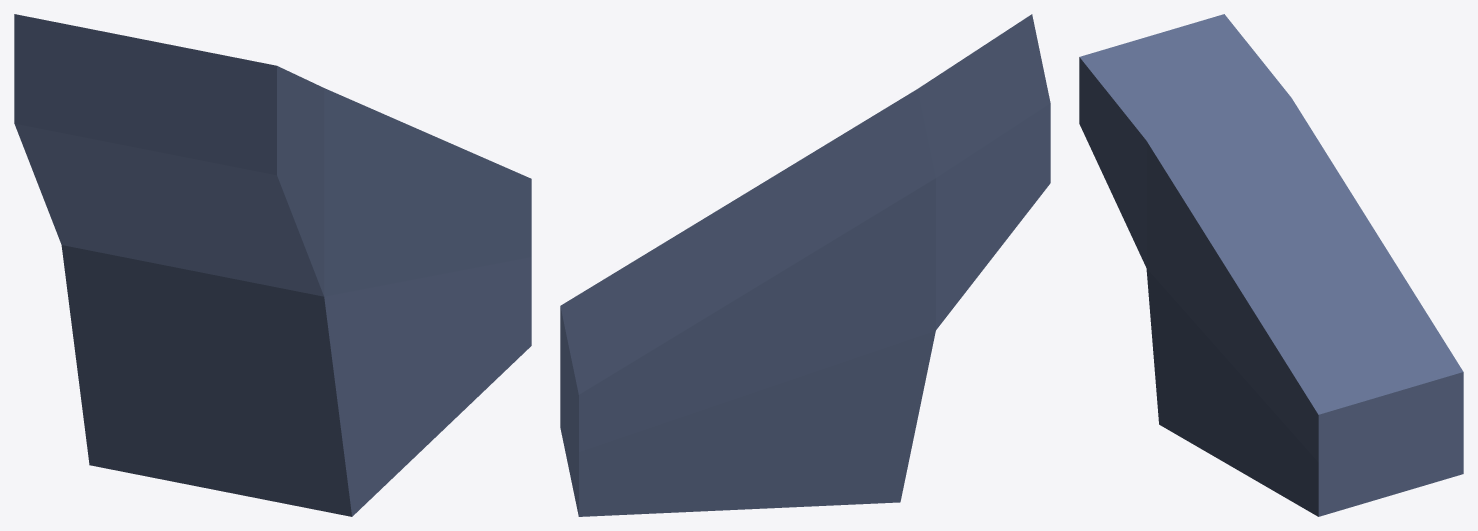
3 views of the same model, side by side, from view 1: azimuth 30°, elevation 25°; view 2: azimuth 150°, elevation 25°; view 3: azimuth 270°, elevation 25° (orthographic). The views are drawn at different scales.
Parts seen in each view (by area): view 1: Cube.007; view 2: Cube.007; view 3: Cube.007.
Boxes of the visible parts, x1,y1,x2,y2 form: Cube.007: (14, 14, 531, 516); Cube.007: (560, 14, 1050, 516); Cube.007: (1079, 14, 1463, 516).
Size of the model in its own units: 314 by 269 by 288.
